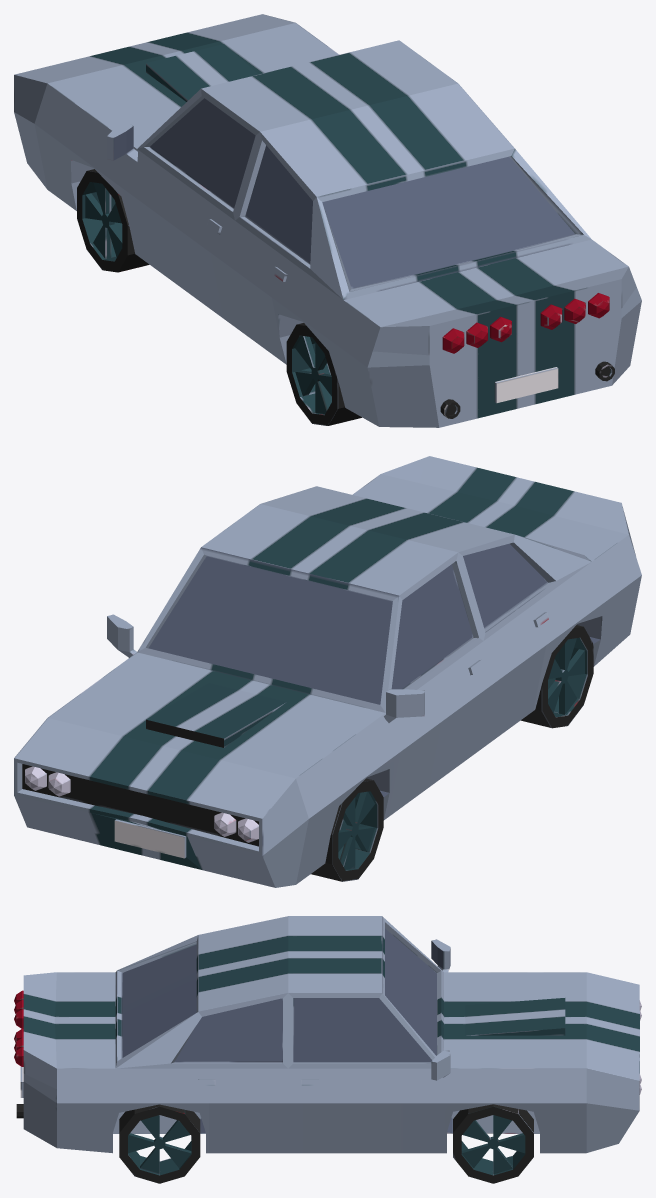
3 views of the same model, one above another, from view 1: azimuth 30°, elevation 25°; view 2: azimuth 150°, elevation 25°; view 3: azimuth 270°, elevation 25° (orthographic). The views are drawn at different scales.
Visible parts, largest first — view 1: Muscle 2; view 2: Muscle 2; view 3: Muscle 2.
Part boxes in pixels (bbox=[...]): Muscle 2: bbox=[14, 14, 641, 427]; Muscle 2: bbox=[14, 456, 641, 887]; Muscle 2: bbox=[14, 916, 641, 1183].
Bounding box in the file's own units: 1.3 × 0.8829 × 2.8.
Materials: 1 (1 with a texture image).
